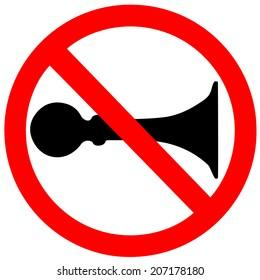Horn Prohibited: (2, 6, 255, 249)
